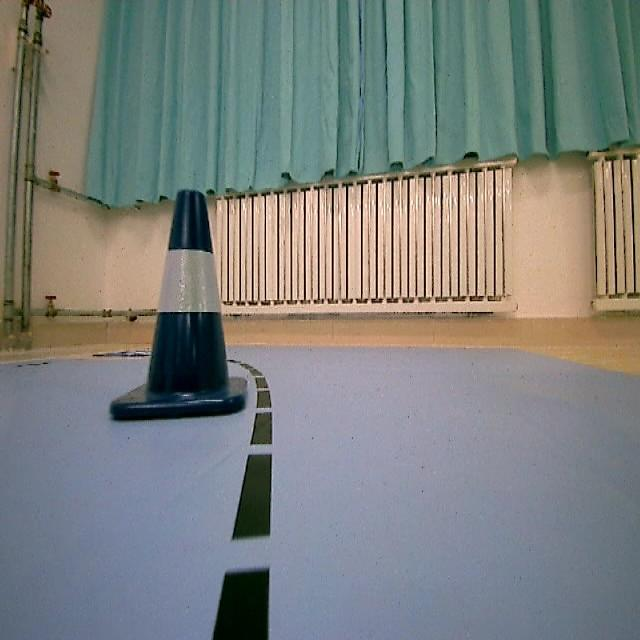obstacle: (122, 187, 240, 425)
